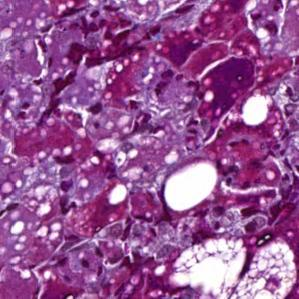ballooning: (169, 234, 250, 294), (236, 230, 295, 297)
